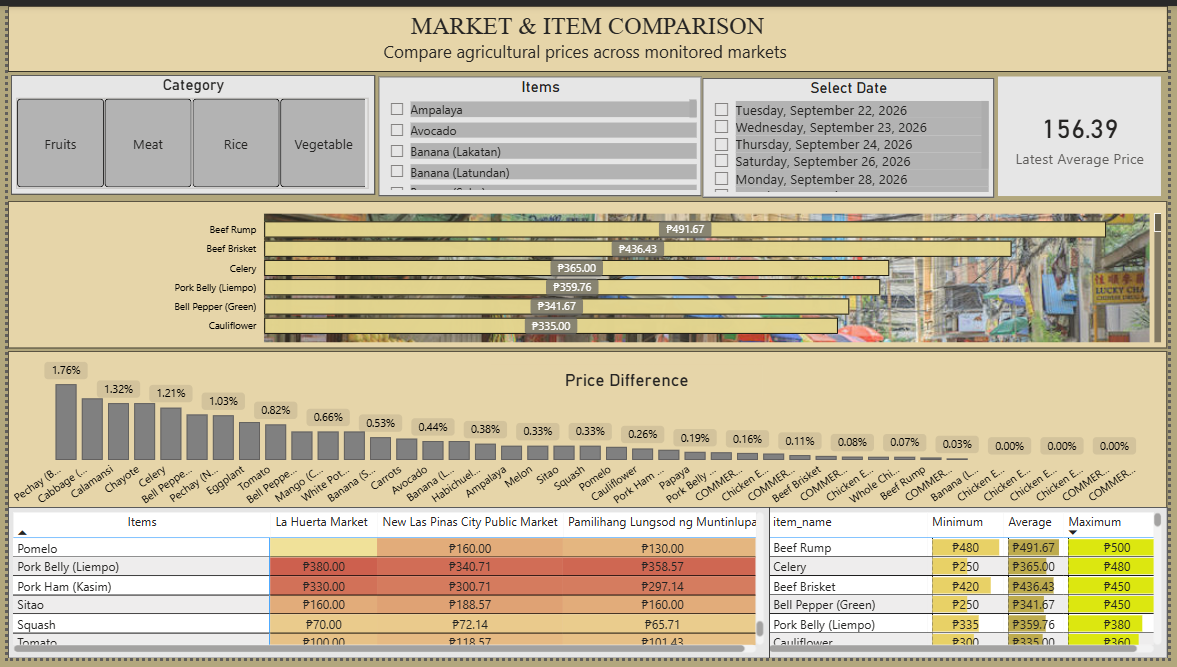

The dashboard page shown, as its layout file describes it:
{"tool":"powerbi","page":{"name":"Market & Item Comparison","canvas":[1280,720],"ordinal":1},"visuals":[{"type":"barChart","title":"Item Price by Market","fields":{"Category":["agriproject_db vw_price_analysis.item_name"],"Y":["agriproject_db vw_price_analysis.Average Price"]},"box":[0,215.3,1280,162.3],"z":1000},{"type":"card","fields":{"Values":["agriproject_db vw_price_analysis.Latest Average Price"]},"box":[1093.3,78.3,180,131.7],"z":2000},{"type":"textbox","box":[0,0,1280.5,72.9],"z":3000},{"type":"slicer","title":"Items","fields":{"Values":["agriproject_db vw_price_analysis.item_name"]},"box":[408.3,78.3,356.7,131.7],"z":4000},{"type":"clusteredColumnChart","title":"Price Difference","fields":{"Category":["agriproject_db vw_price_analysis.item_name"],"Y":["Divide(agriproject_db vw_price_analysis.Price diff %, ScopedEval(agriproject_db vw_price_analysis.Price diff %, []))"]},"box":[0,381.7,1280,183.3],"z":4500},{"type":"advancedSlicerVisual","title":"Category","fields":{"Values":["agriproject_db vw_price_analysis.category_name"]},"box":[3.3,76.7,401.7,131.7],"z":5000},{"type":"slicer","title":"Select Date","fields":{"Values":["agriproject_db vw_price_analysis.price_date"]},"box":[766.7,80,321.7,131.7],"z":6000},{"type":"tableEx","fields":{"Values":["agriproject_db vw_price_analysis.item_name","agriproject_db vw_price_analysis.Min price","agriproject_db vw_price_analysis.Average Price","agriproject_db vw_price_analysis.Max price"]},"box":[833,554,447,167],"z":7000},{"type":"textbox","box":[533.4,395.9,299.8,34.8],"z":8001},{"type":"pivotTable","fields":{"Rows":["agriproject_db vw_price_analysis.item_name"],"Columns":["agriproject_db vw_price_analysis.market_name"],"Values":["agriproject_db vw_price_analysis.Average Price"]},"box":[0,554,841,167],"z":8501}]}

Visuals, with their boxes in screenshot pixels (x1, y1, x2, y2), scaled from the page's 1280x720 canvas onto the 1177x667 screenshot:
"Item Price by Market" barChart: bbox=[0, 199, 1176, 350]
card - agriproject_db vw_price_analysis.Latest Average Price: bbox=[1005, 73, 1171, 195]
textbox: bbox=[0, 0, 1176, 68]
"Items" slicer: bbox=[375, 73, 703, 195]
"Price Difference" clusteredColumnChart: bbox=[0, 354, 1176, 523]
"Category" advancedSlicerVisual: bbox=[3, 71, 372, 193]
"Select Date" slicer: bbox=[705, 74, 1001, 196]
tableEx - agriproject_db vw_price_analysis.item_name x agriproject_db vw_price_analysis.Min price: bbox=[766, 513, 1176, 666]
textbox: bbox=[490, 367, 766, 399]
pivotTable - agriproject_db vw_price_analysis.item_name x agriproject_db vw_price_analysis.market_name: bbox=[0, 513, 773, 666]
